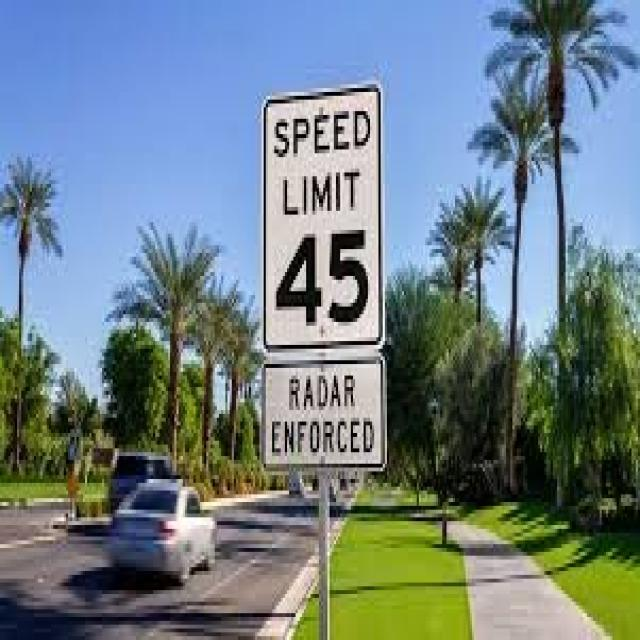speedLimit45: (264, 79, 389, 366)
